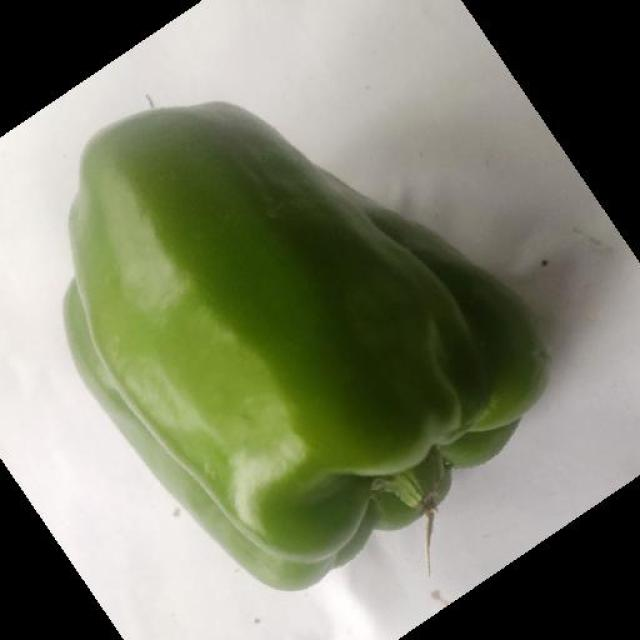Fresh_Capsicum: (68, 117, 537, 560)
